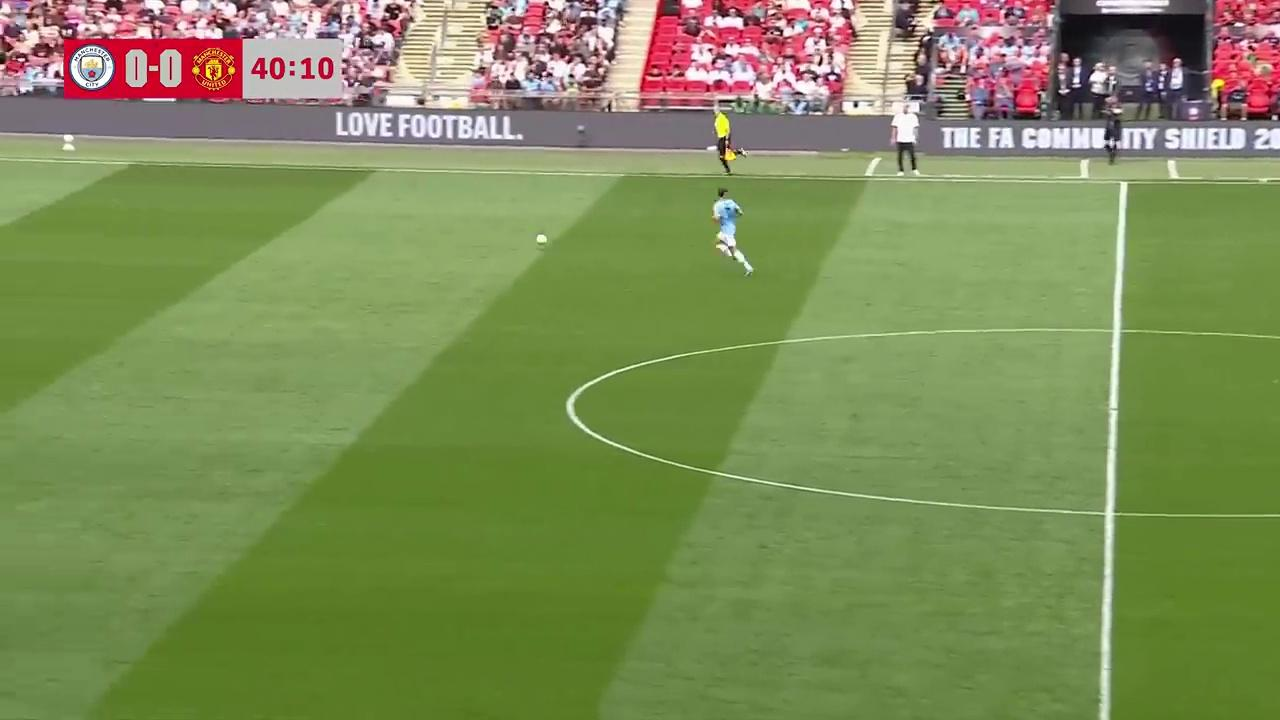ball: (533, 230, 548, 247)
player: (711, 186, 754, 277)
referee: (713, 107, 736, 176)
